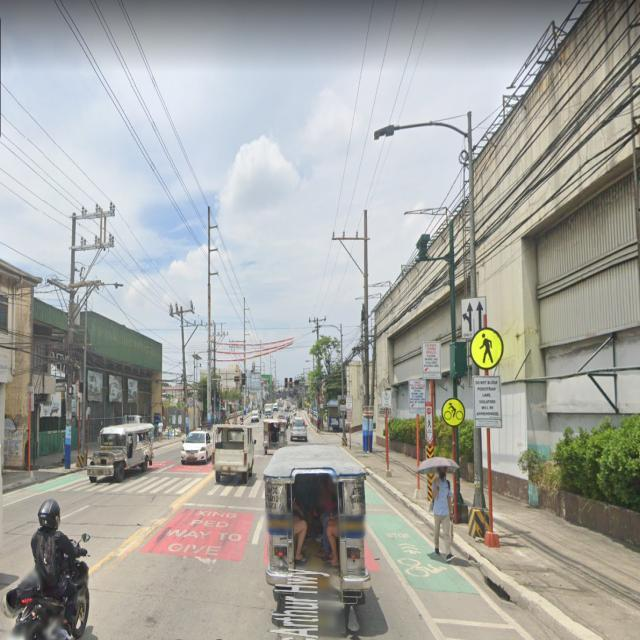bike lane: (442, 396, 466, 427)
pedestrian crossing: (470, 328, 504, 371)
